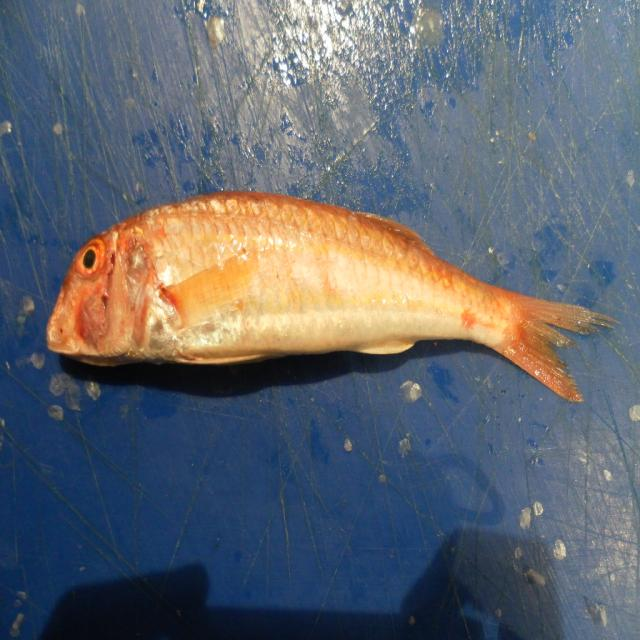Striped-Red-Mullet-tekir-: (46, 191, 616, 405)
